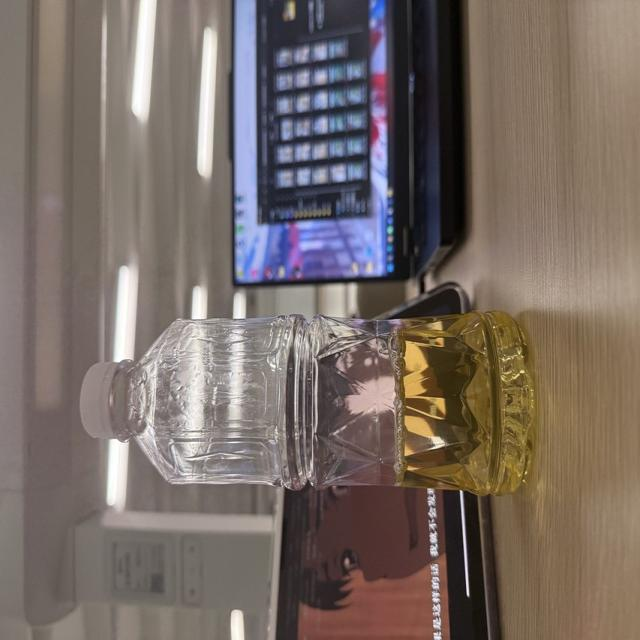low: (81, 311, 533, 495)
